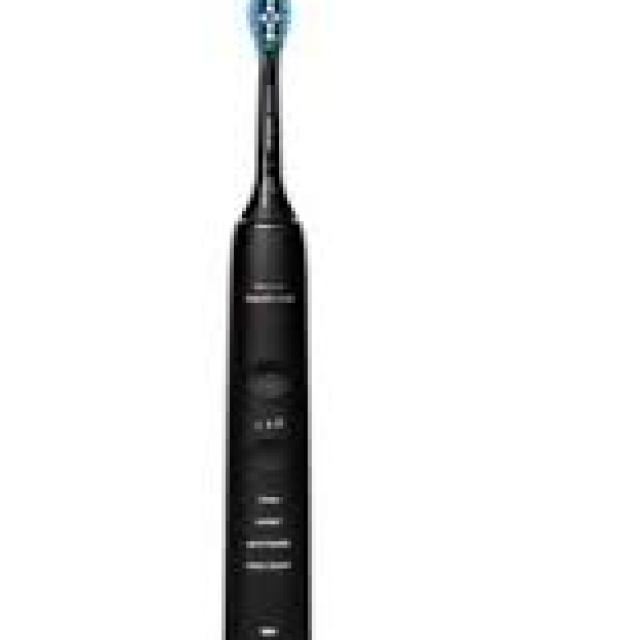organic: (212, 0, 316, 637)
